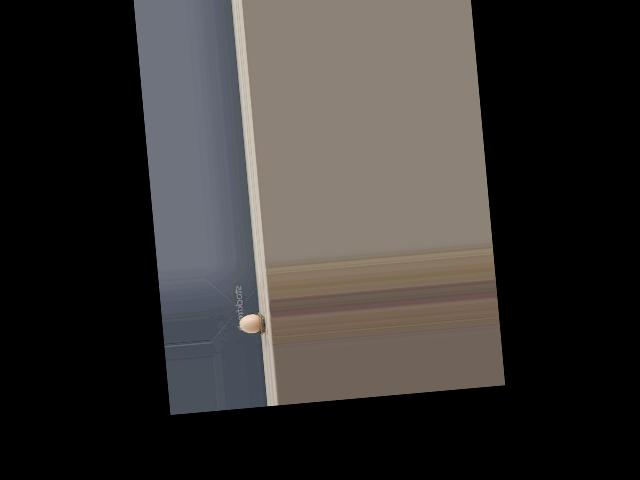egg: (239, 314, 261, 334)
